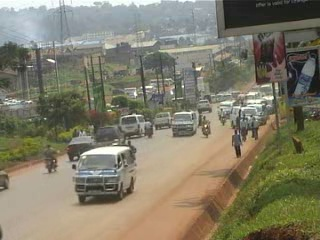Car: (64, 135, 105, 164), (93, 121, 130, 148), (0, 165, 12, 193)
Motorcycle: (42, 153, 60, 174), (200, 120, 212, 139), (218, 110, 228, 128), (145, 125, 154, 139)
